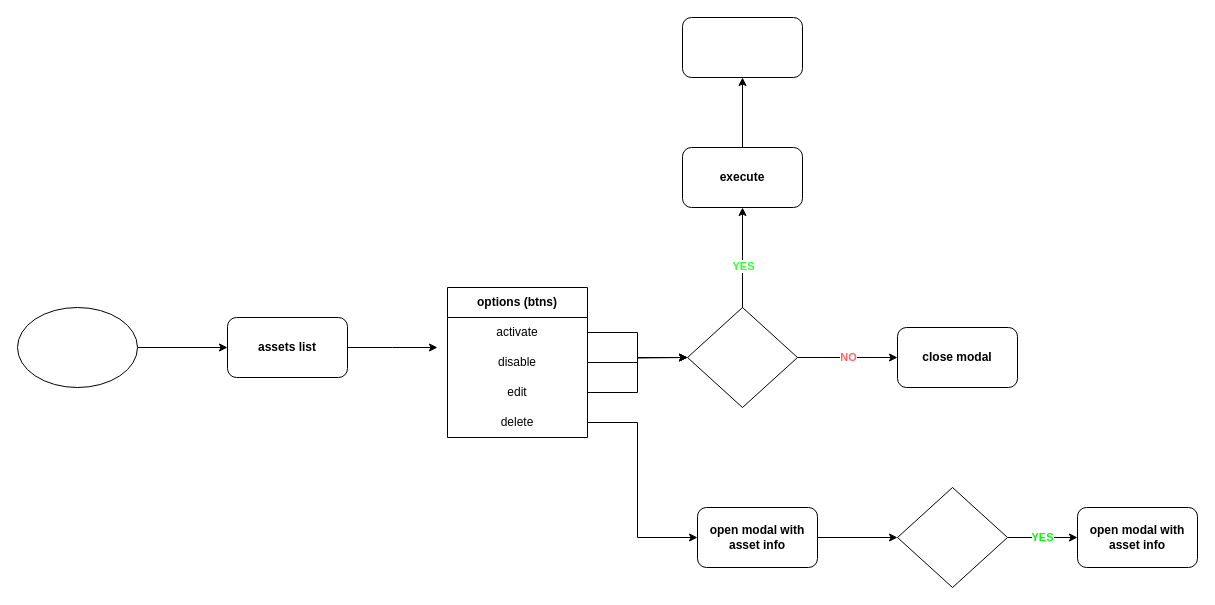
Some shapes in this 1215 by 605 pixel diagram are drawn without their labels. Here are the shapes that lost their labels. From the top down, the box of each, then its label:
(682, 16, 802, 78): show success message
(686, 306, 798, 408): confirm action
(896, 486, 1008, 588): delete?
